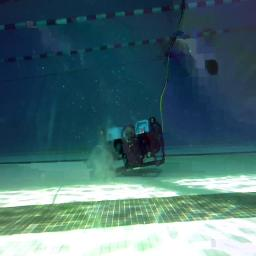front: (97, 116, 166, 174)
